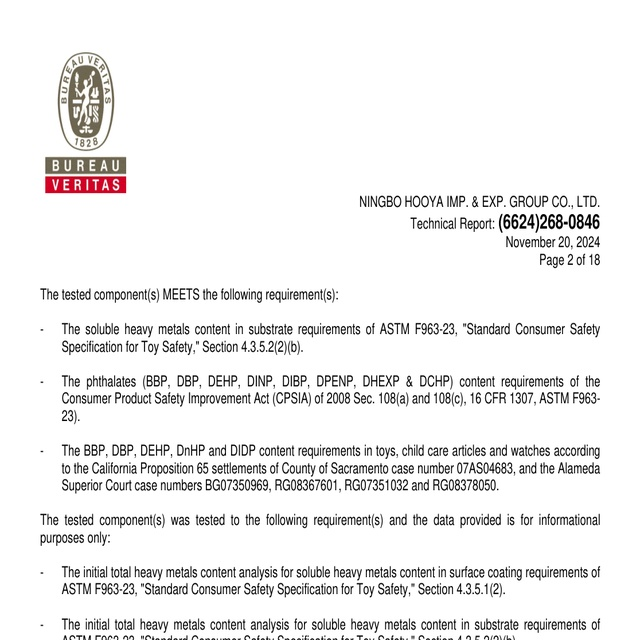bureau_veritas: (42, 50, 135, 198)
